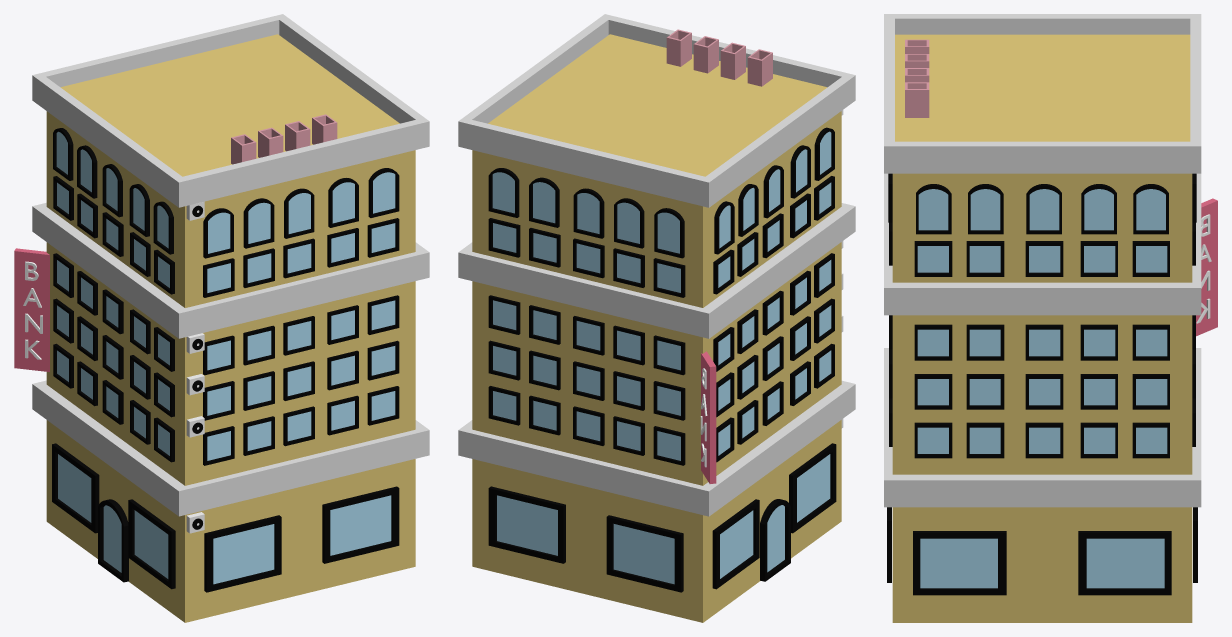
Rendered from Bank.fbx.
The picture shows the model from 3 angles, left to right: view 1: azimuth 30°, elevation 25°; view 2: azimuth 150°, elevation 25°; view 3: azimuth 270°, elevation 25°; orthographic projection. The views are drawn at different scales.
Parts seen in each view (by area): view 1: Cube.130, Cube.133, Cube.132, Cube.131, Cube.137, Cube.135, Cube.168, Cube.160, Cube.143, Cube.136, Cube.144, Cube.146 (+31 smaller); view 2: Cube.130, Cube.133, Cube.132, Cube.131, Cube.137, Cube.135, Cube.143, Cube.160, Cube.144, Cube.146, Cube.145, Cube.142 (+30 smaller); view 3: Cube.130, Cube.133, Cube.131, Cube.135, Cube.132, Cube.140, Cube.148, Cube.138, Cube.150, Cube.134, Cube.151, Cube.139 (+13 smaller).
Boxes of the visible parts, left/top/right/bottom form: Cube.130: left=46, top=34, right=415, bottom=622; Cube.133: left=32, top=14, right=429, bottom=207; Cube.132: left=32, top=202, right=429, bottom=338; Cube.131: left=32, top=380, right=429, bottom=516; Cube.137: left=204, top=486, right=399, bottom=592; Cube.135: left=52, top=443, right=175, bottom=589; Cube.168: left=14, top=248, right=49, bottom=371; Cube.160: left=243, top=178, right=358, bottom=248; Cube.143: left=203, top=168, right=399, bottom=258; Cube.136: left=98, top=499, right=128, bottom=582; Cube.144: left=203, top=218, right=399, bottom=297; Cube.146: left=203, top=386, right=399, bottom=465; Cube.130: left=472, top=34, right=841, bottom=622; Cube.133: left=458, top=14, right=855, bottom=207; Cube.132: left=458, top=203, right=855, bottom=338; Cube.131: left=458, top=380, right=855, bottom=516; Cube.137: left=488, top=486, right=683, bottom=592; Cube.135: left=712, top=443, right=836, bottom=589; Cube.143: left=488, top=168, right=684, bottom=258; Cube.160: left=529, top=177, right=644, bottom=248; Cube.144: left=488, top=218, right=685, bottom=297; Cube.146: left=488, top=386, right=685, bottom=465; Cube.145: left=488, top=295, right=685, bottom=375; Cube.142: left=488, top=340, right=685, bottom=420; Cube.130: left=892, top=34, right=1192, bottom=622; Cube.133: left=884, top=14, right=1201, bottom=173; Cube.131: left=884, top=348, right=1201, bottom=507; Cube.135: left=913, top=531, right=1171, bottom=595; Cube.132: left=884, top=173, right=1201, bottom=315; Cube.140: left=916, top=184, right=1168, bottom=234; Cube.148: left=968, top=184, right=1116, bottom=234; Cube.138: left=914, top=324, right=1169, bottom=360; Cube.150: left=966, top=324, right=1117, bottom=360; Cube.134: left=914, top=422, right=1169, bottom=458; Cube.151: left=966, top=422, right=1117, bottom=458; Cube.139: left=914, top=241, right=1169, bottom=276.
Size of the model in its own units: 1756 by 2915 by 1783.
